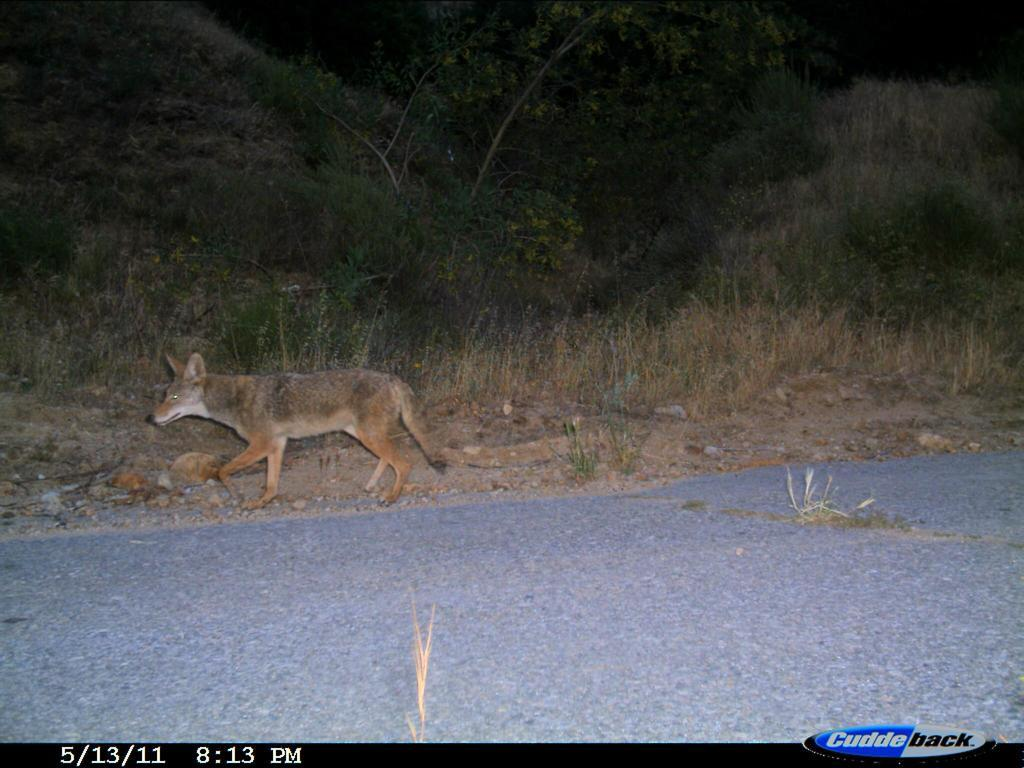coyote: (148, 344, 450, 510)
